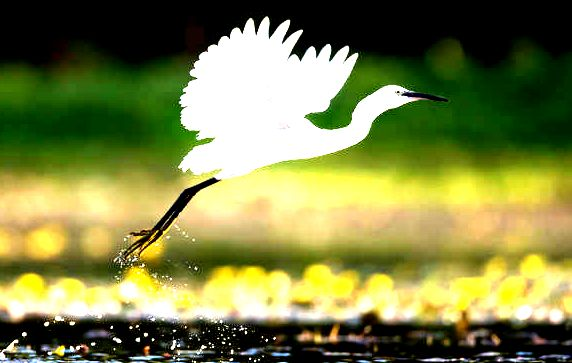Bird: (111, 13, 450, 268)
